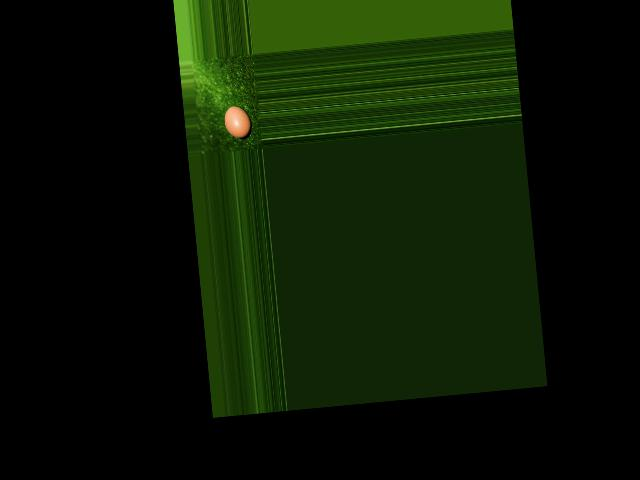egg: (223, 104, 252, 139)
